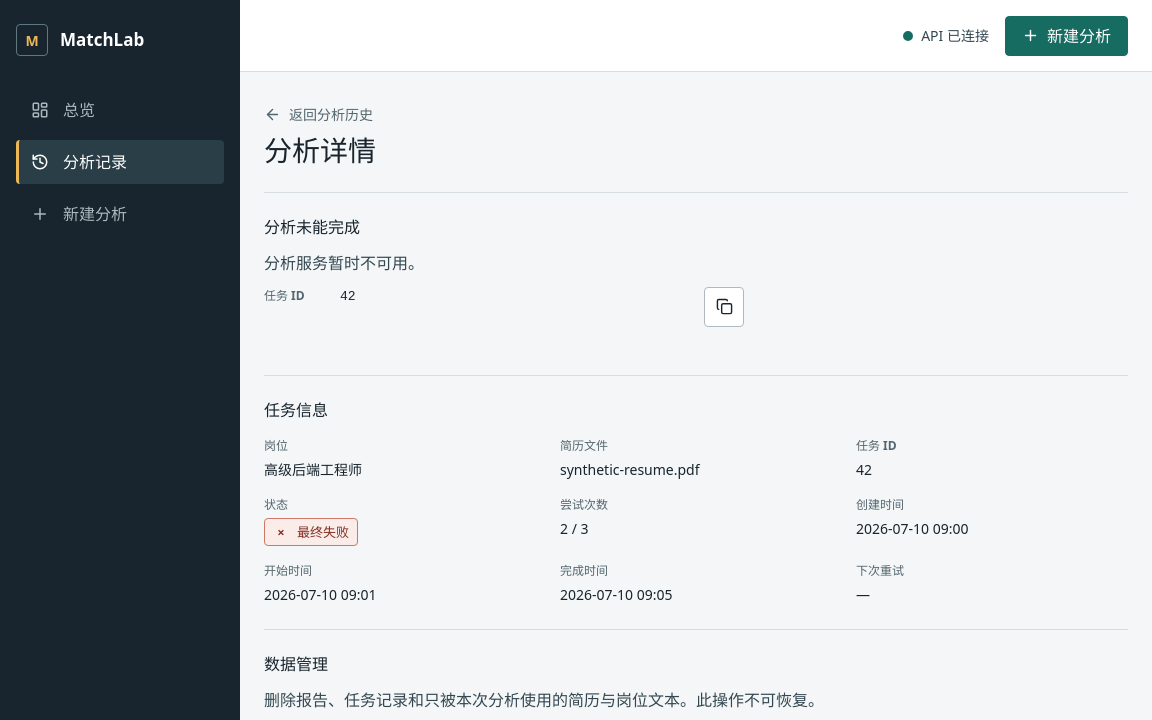
Test case: announces a safe clipboard failure without exposing the rejection
Step 1. Click the button named "复制任务 ID" → (724, 307), box [704, 287, 744, 327]
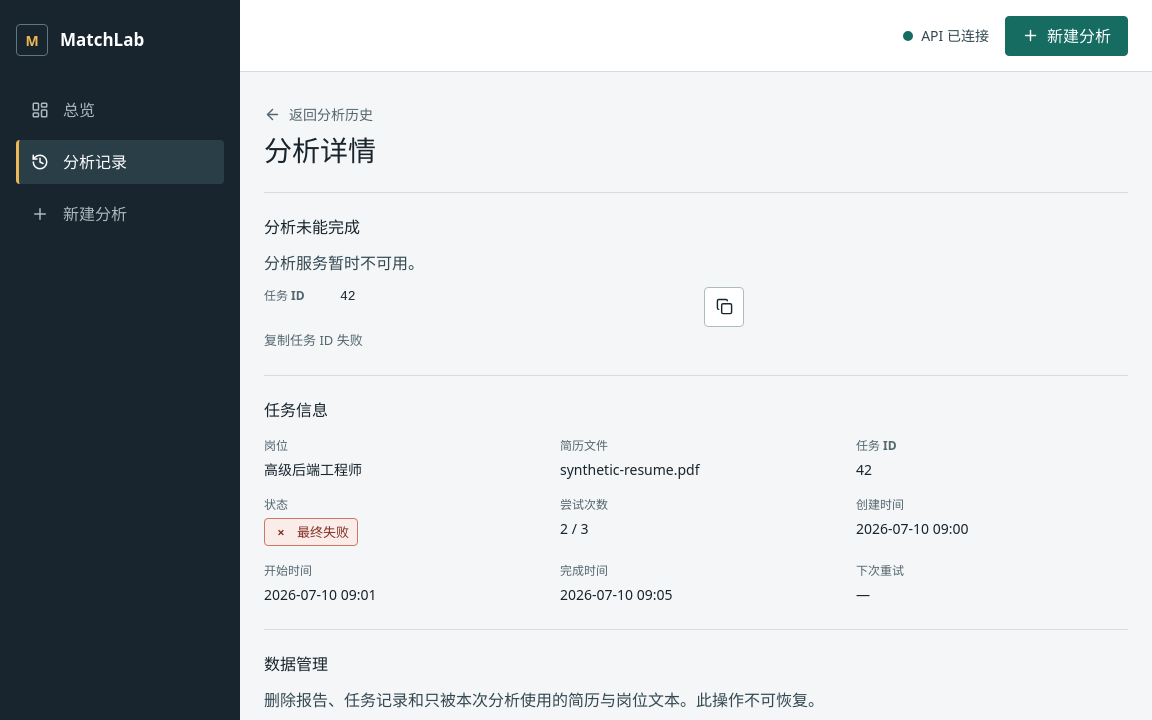
Expected: the text "复制任务 ID 失败" is shown, [264, 331, 363, 349]
